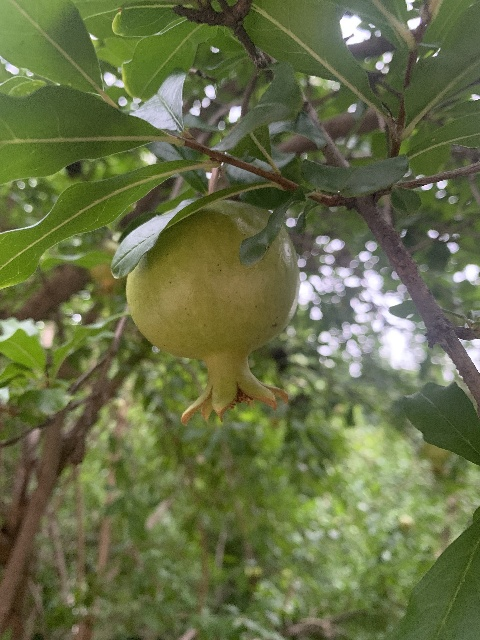mid-growth: (125, 197, 300, 430)
